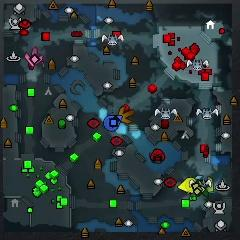p1: (104, 115, 122, 132)
p4: (178, 178, 197, 193)
x1: (25, 47, 43, 67)
x2: (206, 178, 215, 192)
x3: (195, 175, 202, 181)
x4: (200, 187, 209, 198)
x5: (118, 105, 134, 124)
